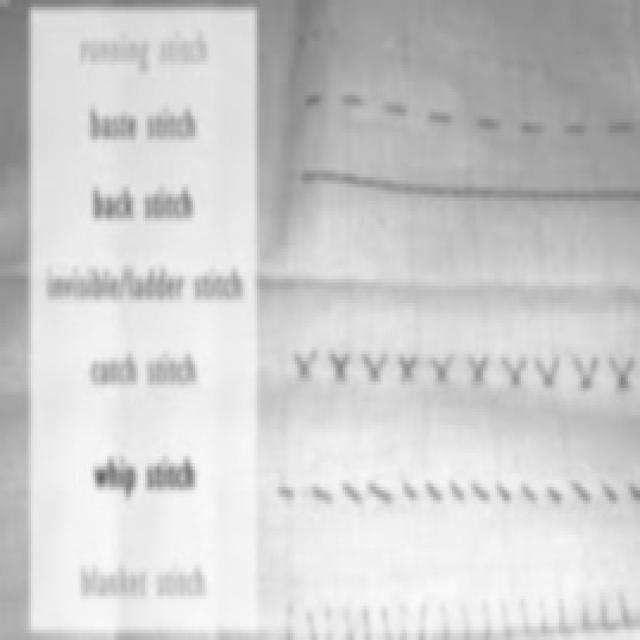stitch: (368, 481, 392, 504), (571, 481, 591, 503), (520, 483, 539, 504), (311, 486, 332, 504), (449, 479, 465, 502), (342, 483, 361, 502), (425, 481, 442, 502), (546, 485, 564, 504), (471, 483, 489, 501), (602, 483, 618, 503), (428, 111, 452, 124), (609, 122, 634, 134), (496, 483, 511, 503), (342, 93, 364, 106), (402, 481, 416, 500), (278, 485, 295, 500), (521, 122, 542, 134), (478, 118, 499, 129), (565, 123, 585, 134), (385, 104, 406, 114), (629, 483, 640, 502), (305, 95, 321, 106)
